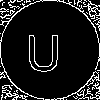U: (25, 25, 62, 72)
